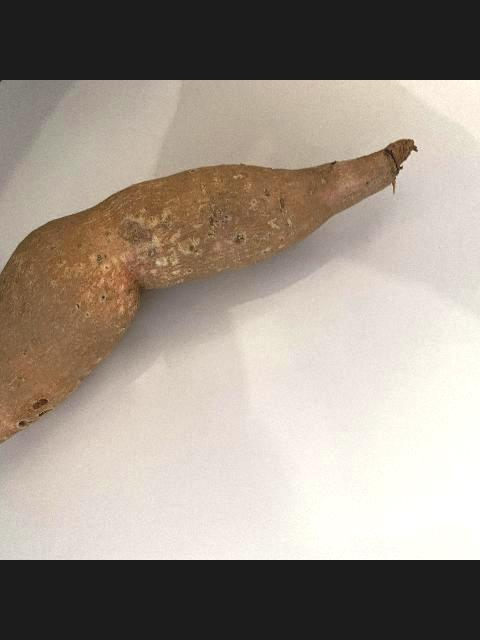sweetpotato: (0, 137, 418, 458)
